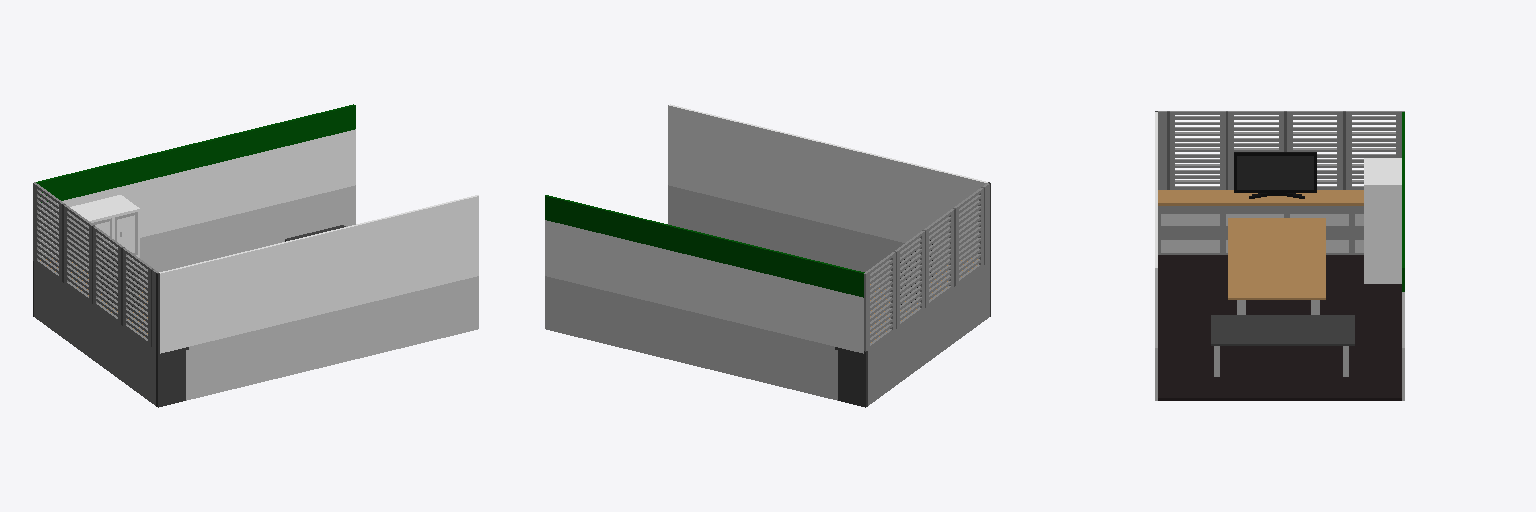
3 renders of one model, left to right at view 1: azimuth 30°, elevation 25°; view 2: azimuth 150°, elevation 25°; view 3: azimuth 270°, elevation 25°, orthographic.
Parts seen in each view (by area): view 1: ScramRoom; view 2: ScramRoom; view 3: ScramRoom.
Boxes of the visible parts, x1=… form: ScramRoom: x1=33, y1=104, x2=478, y2=407; ScramRoom: x1=545, y1=104, x2=990, y2=407; ScramRoom: x1=1155, y1=111, x2=1404, y2=400.
Bounding box in the file's own units: 126 × 50 × 85.
1 materials, 1 textured.